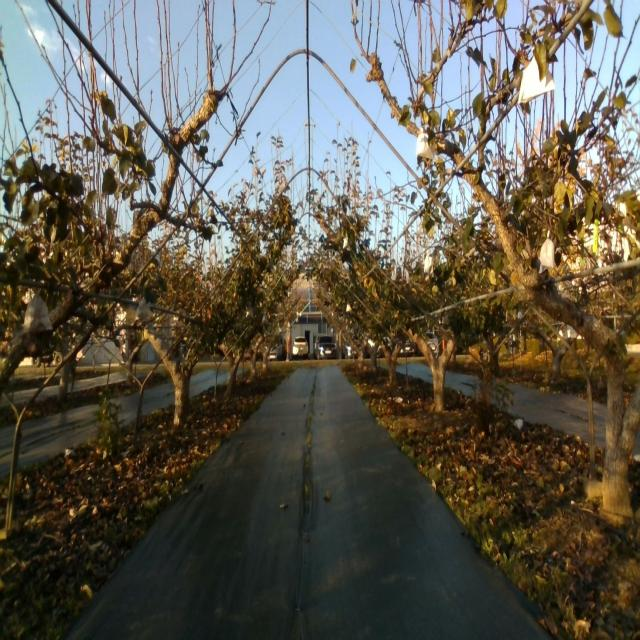pearbags: (519, 54, 555, 105), (22, 289, 52, 335), (539, 230, 555, 274), (417, 128, 434, 160), (137, 298, 152, 319), (423, 254, 434, 278)
